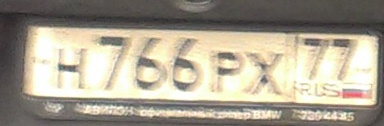character: (135, 32, 170, 96), (98, 30, 132, 94), (172, 34, 204, 97), (246, 50, 286, 100), (53, 44, 90, 94), (208, 48, 242, 97), (302, 31, 329, 82), (331, 38, 359, 85)
